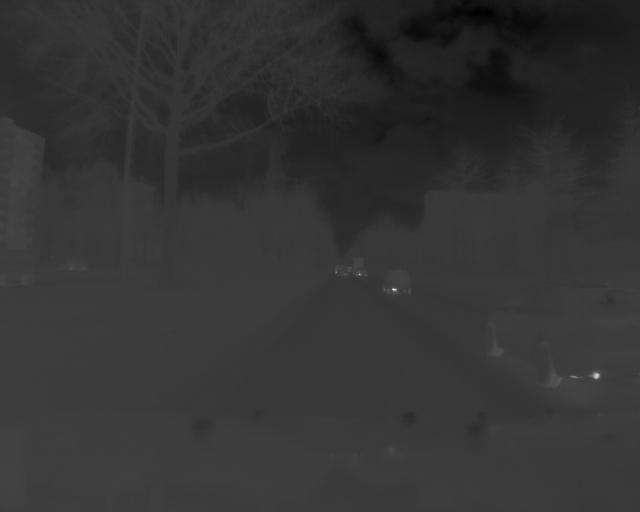car: (478, 277, 640, 398), (381, 268, 412, 297)
